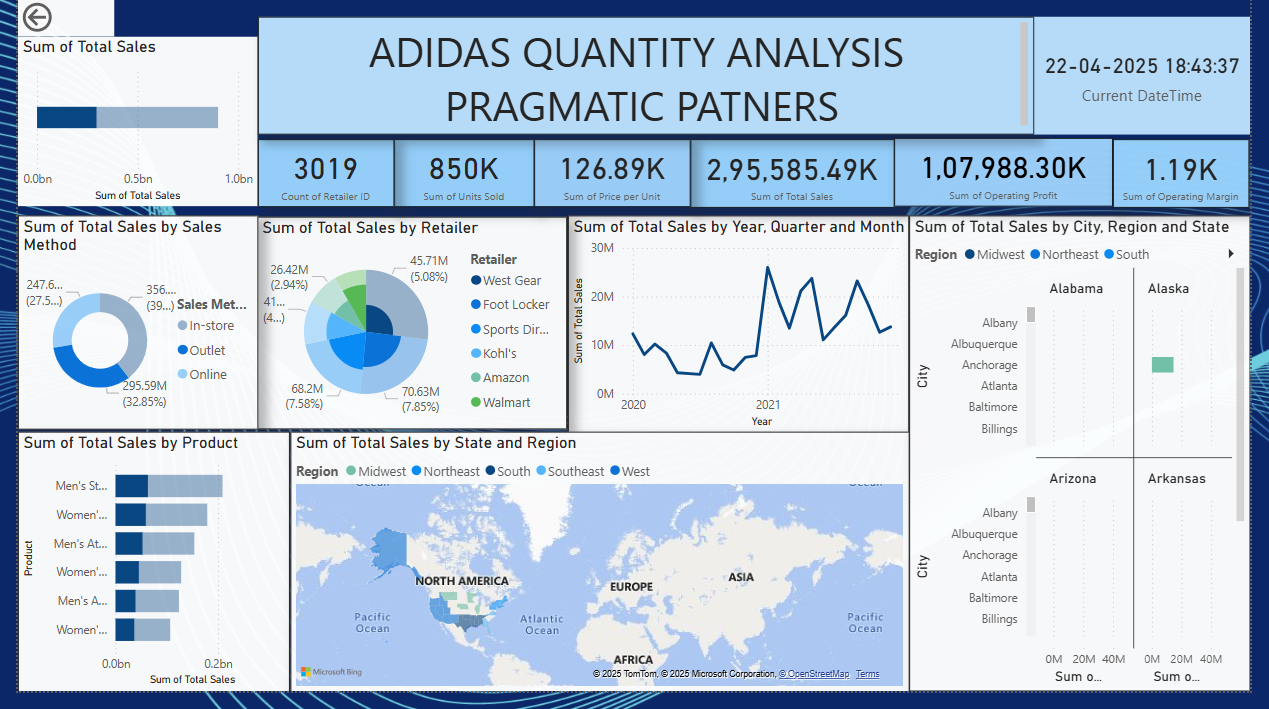

What the dashboard file says about the page in this screenshot:
{"tool":"powerbi","page":{"name":"Page 1","canvas":[1280,720],"ordinal":0},"visuals":[{"type":"lineChart","fields":{"Y":["Sum(Data Sales Adidas.Total Sales)"],"Category":["Data Sales Adidas.Invoice Date.Variation.Date Hierarchy.Year","Data Sales Adidas.Invoice Date.Variation.Date Hierarchy.Quarter","Data Sales Adidas.Invoice Date.Variation.Date Hierarchy.Month","Data Sales Adidas.Invoice Date.Variation.Date Hierarchy.Day"]},"box":[571.1,226.2,354.6,226.2],"z":0},{"type":"actionButton","box":[0,0,100,40],"z":1000},{"type":"pieChart","fields":{"Y":["Sum(Data Sales Adidas.Total Sales)"],"Category":["Data Sales Adidas.Retailer"]},"box":[248.1,227.3,322.1,220.8],"z":2000},{"type":"donutChart","fields":{"Category":["Data Sales Adidas.Sales Method"],"Y":["Sum(Data Sales Adidas.Total Sales)"]},"box":[0,226,249.4,222.1],"z":3000},{"type":"clusteredBarChart","fields":{"Category":["Data Sales Adidas.Product"],"Y":["Sum(Data Sales Adidas.Total Sales)"]},"box":[0,450,282.5,270.2],"z":4000},{"type":"filledMap","fields":{"Series":["Data Sales Adidas.Region"],"Category":["Data Sales Adidas.State"]},"box":[282.5,450,643.2,270.2],"z":5000},{"type":"barChart","fields":{"Y":["Sum(Data Sales Adidas.Total Sales)"],"Category":["Data Sales Adidas.City"],"Series":["Data Sales Adidas.Region"],"Rows":["Data Sales Adidas.State"]},"box":[925.7,226.2,354.6,494],"z":6000},{"type":"card","fields":{"Values":["Sum(Data Sales Adidas.Total Sales)"]},"box":[698.7,146.8,211.7,71.4],"z":7000},{"type":"card","fields":{"Values":["Sum(Data Sales Adidas.Units Sold)"]},"box":[390.9,146.8,145.5,70.1],"z":8000},{"type":"card","fields":{"Values":["Sum(Data Sales Adidas.Operating Profit)"]},"box":[910.4,145.5,227.3,71.4],"z":9000},{"type":"card","fields":{"Values":["Sum(Data Sales Adidas.Price per Unit)"]},"box":[536.4,146.8,162.3,70.1],"z":10000},{"type":"card","fields":{"Values":["Sum(Data Sales Adidas.Operating Margin)"]},"box":[1137.7,146.8,141.6,71.4],"z":11000},{"type":"card","fields":{"Values":["CountNonNull(Data Sales Adidas.Retailer ID)"]},"box":[249.4,146.8,141.6,70.1],"z":12000},{"type":"barChart","fields":{"Y":["Sum(Data Sales Adidas.Total Sales)"]},"box":[0,40,249,176],"z":13000},{"type":"textbox","box":[249.4,19.5,806.5,122.1],"z":13001},{"type":"card","fields":{"Values":["Data Sales Adidas.Current DateTime"]},"box":[1055.8,19.5,224.7,122.1],"z":13002}]}

Visuals, with their boxes in screenshot pixels (x1, y1, x2, y2):
lineChart - Sum(Data Sales Adidas.Total Sales) x Data Sales Adidas.Invoice Date.Variation.Date Hierarchy.Year: left=569, top=210, right=914, bottom=430
actionButton: left=13, top=0, right=111, bottom=29
pieChart - Sum(Data Sales Adidas.Total Sales) x Data Sales Adidas.Retailer: left=255, top=211, right=568, bottom=426
donutChart - Data Sales Adidas.Sales Method x Sum(Data Sales Adidas.Total Sales): left=13, top=210, right=256, bottom=426
clusteredBarChart - Data Sales Adidas.Product x Sum(Data Sales Adidas.Total Sales): left=13, top=428, right=288, bottom=691
filledMap - Data Sales Adidas.Region x Data Sales Adidas.State: left=288, top=428, right=914, bottom=691
barChart - Sum(Data Sales Adidas.Total Sales) x Data Sales Adidas.City: left=914, top=210, right=1259, bottom=691
card - Sum(Data Sales Adidas.Total Sales): left=693, top=133, right=899, bottom=202
card - Sum(Data Sales Adidas.Units Sold): left=394, top=133, right=535, bottom=201
card - Sum(Data Sales Adidas.Operating Profit): left=899, top=132, right=1120, bottom=201
card - Sum(Data Sales Adidas.Price per Unit): left=535, top=133, right=693, bottom=201
card - Sum(Data Sales Adidas.Operating Margin): left=1120, top=133, right=1258, bottom=202
card - CountNonNull(Data Sales Adidas.Retailer ID): left=256, top=133, right=394, bottom=201
barChart - Sum(Data Sales Adidas.Total Sales): left=13, top=29, right=256, bottom=200
textbox: left=256, top=9, right=1041, bottom=128
card - Data Sales Adidas.Current DateTime: left=1041, top=9, right=1259, bottom=128
